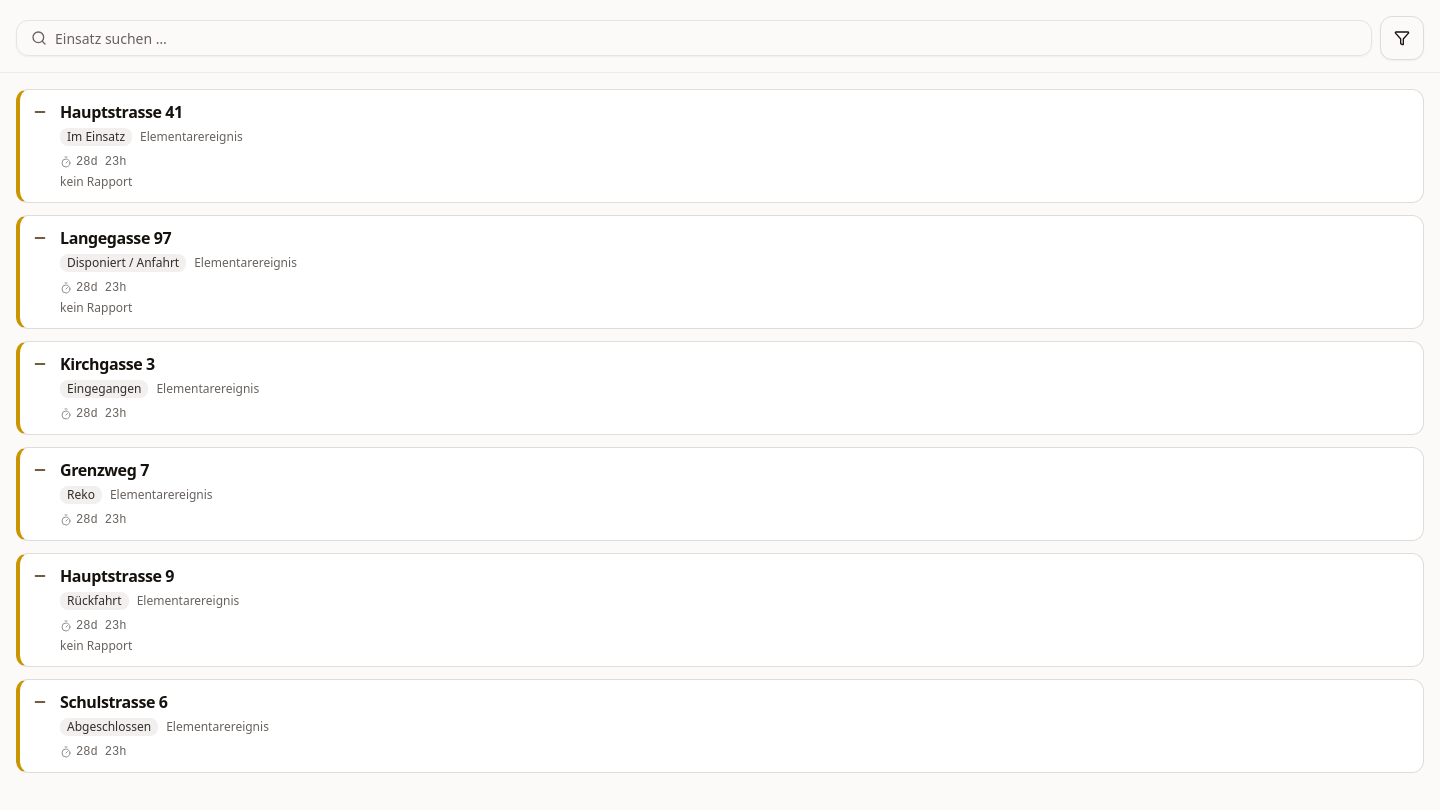
Scenario: MobileIncidentListView — the funnel filter › lists every status with its count, nothing ticked, no «Alle zeigen» yet
Click the button named "Filtern" at coordinates (1402, 38), box [1380,16,1424,60]
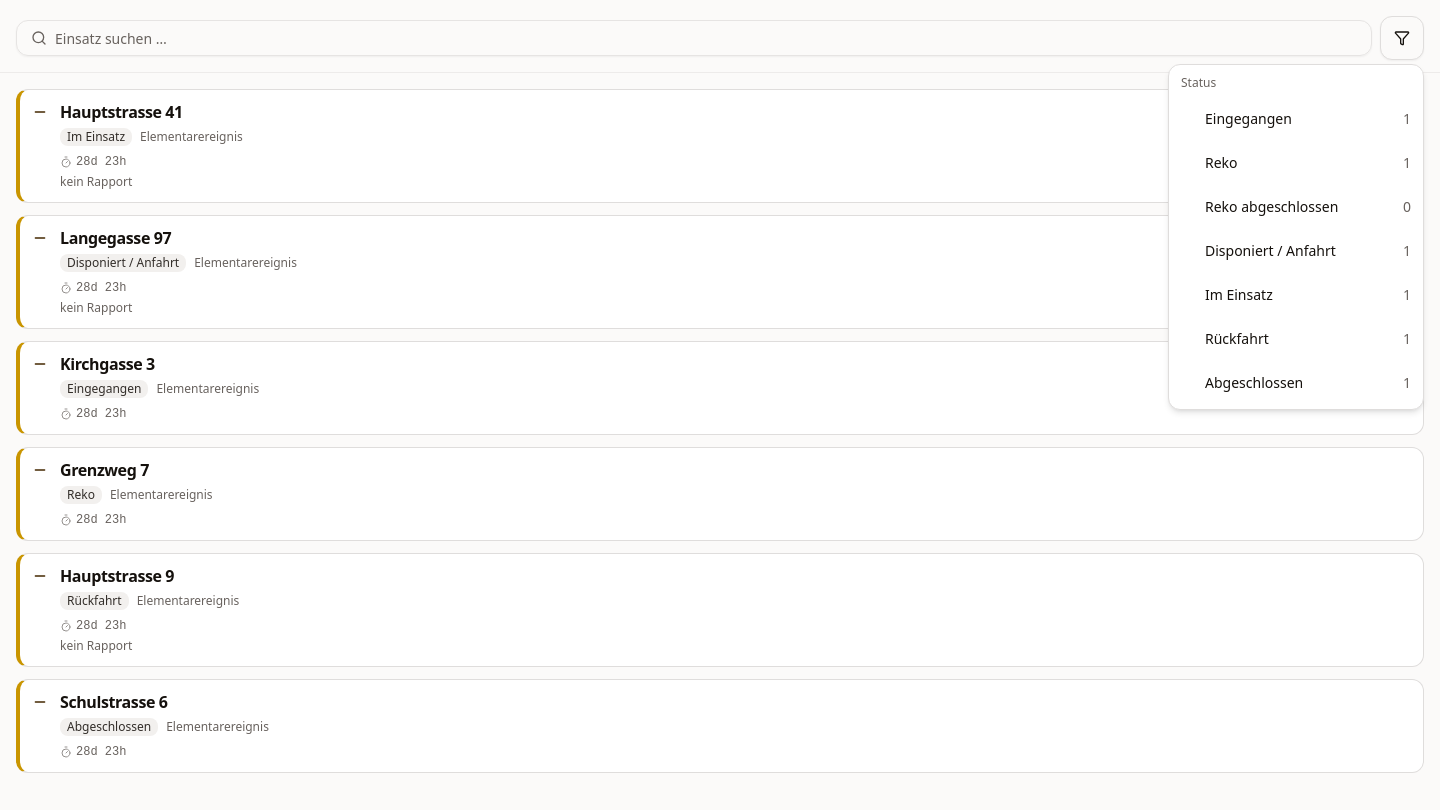
Check: the menu item "Im Einsatz 1" is shown, box [1205,285,1411,304]
Check: the menu item "Disponiert / Anfahrt 1" is shown, box [1205,241,1411,260]
Check: the menu item "Eingegangen 1" is shown, box [1205,109,1411,128]
